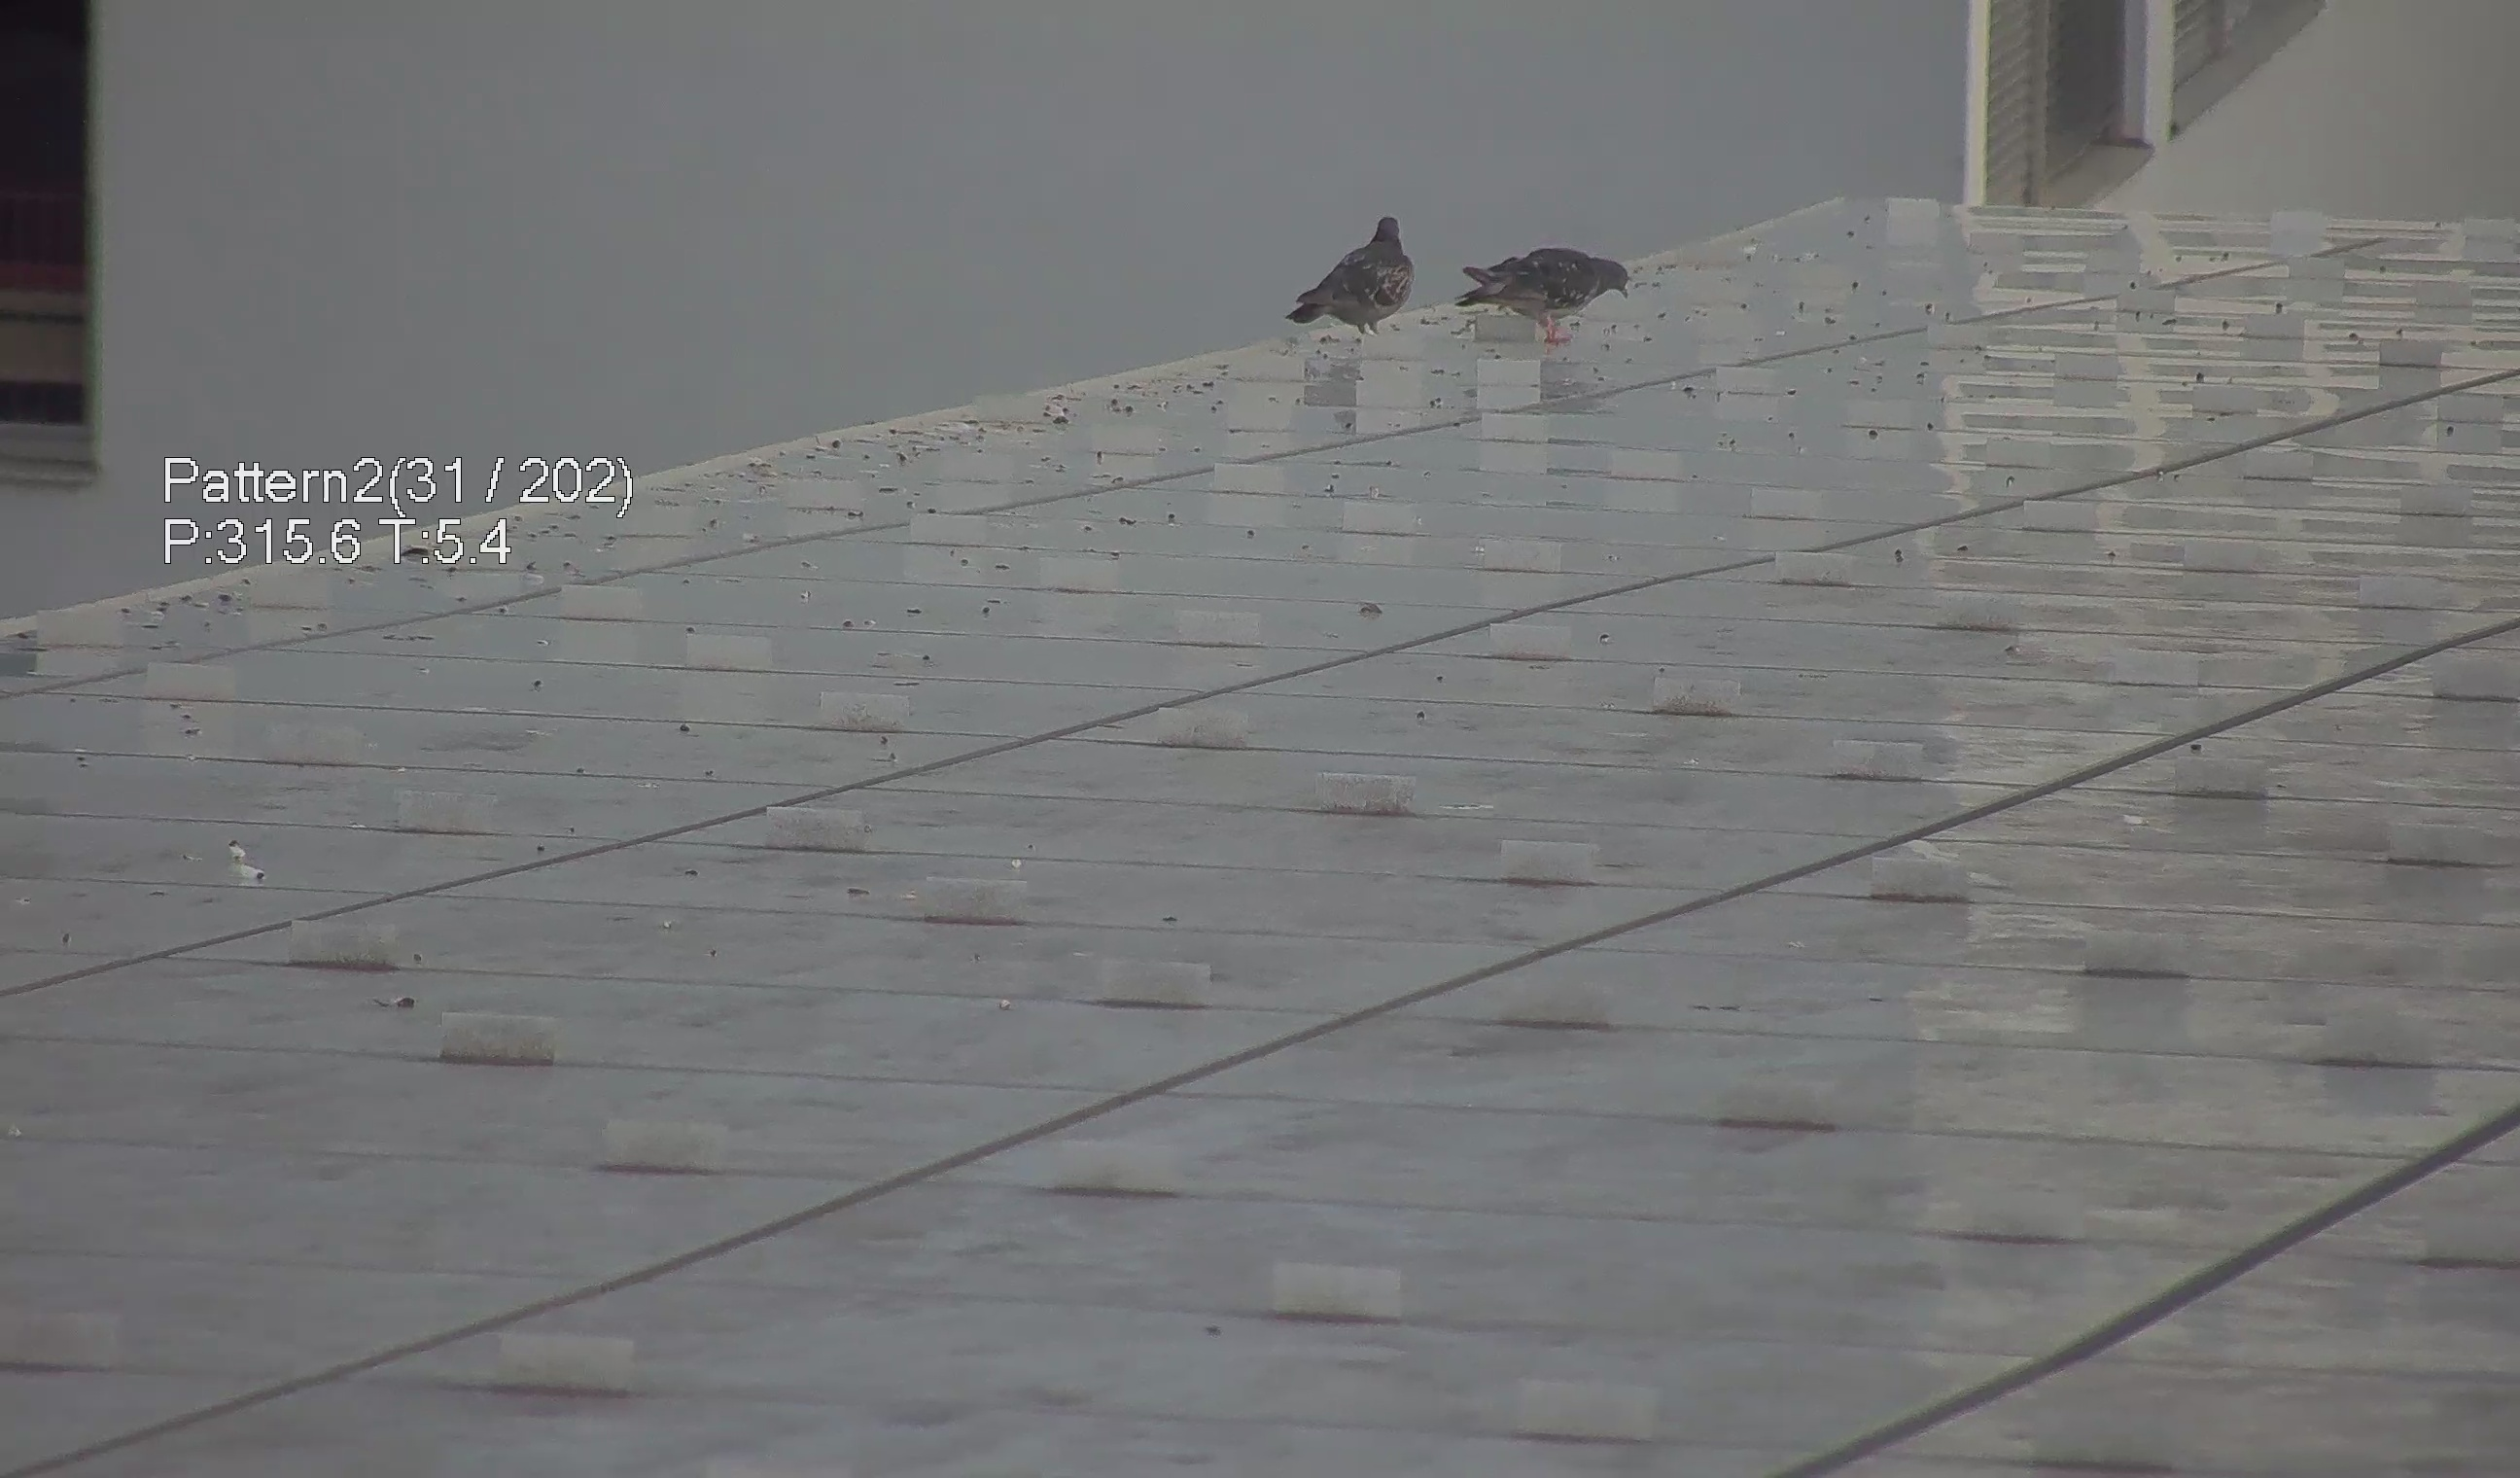Pigeon: (1465, 225, 1655, 347), (1280, 201, 1424, 340)
